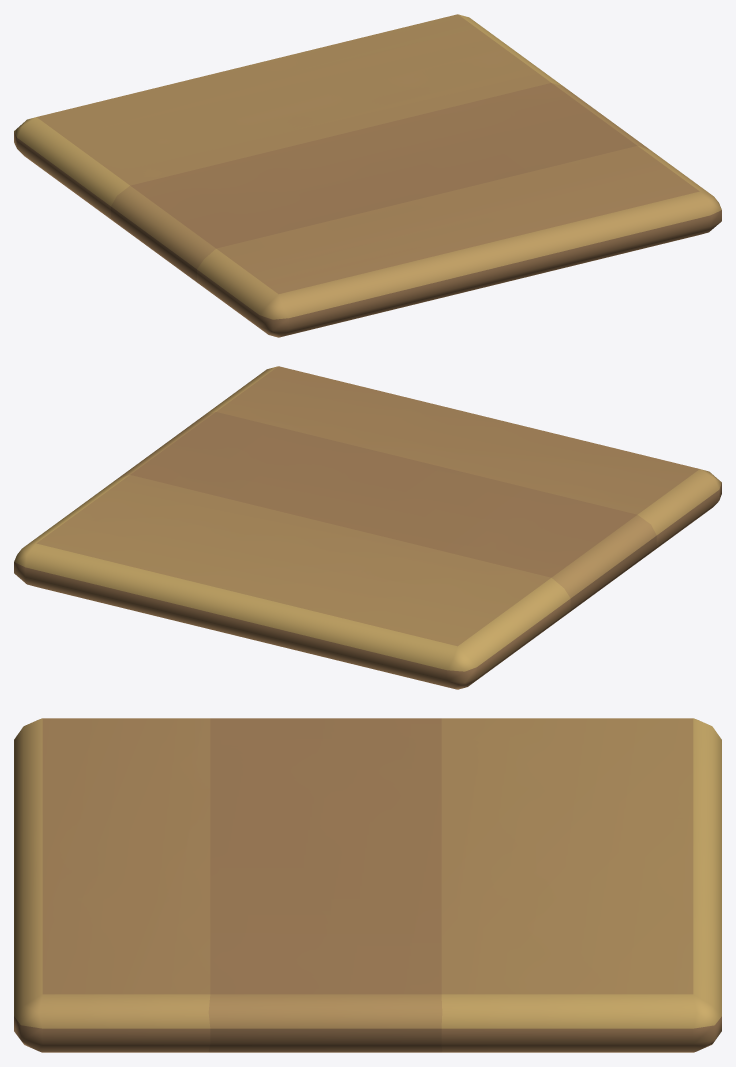
The model's file is wood_top_LOD_setup.fbx.
3 views of the same model, one above another, from view 1: azimuth 30°, elevation 25°; view 2: azimuth 150°, elevation 25°; view 3: azimuth 270°, elevation 25° (orthographic). The views are drawn at different scales.
Parts seen in each view (by area): view 1: wood_top_LOD0; view 2: wood_top_LOD0; view 3: wood_top_LOD0.
Boxes of the visible parts, x1,y1,x2,y2 form: wood_top_LOD0: (14,14,721,337); wood_top_LOD0: (14,366,721,689); wood_top_LOD0: (14,718,721,1052).
Size of what is drawn, in the model's own units: 107 by 9.7 by 107.
